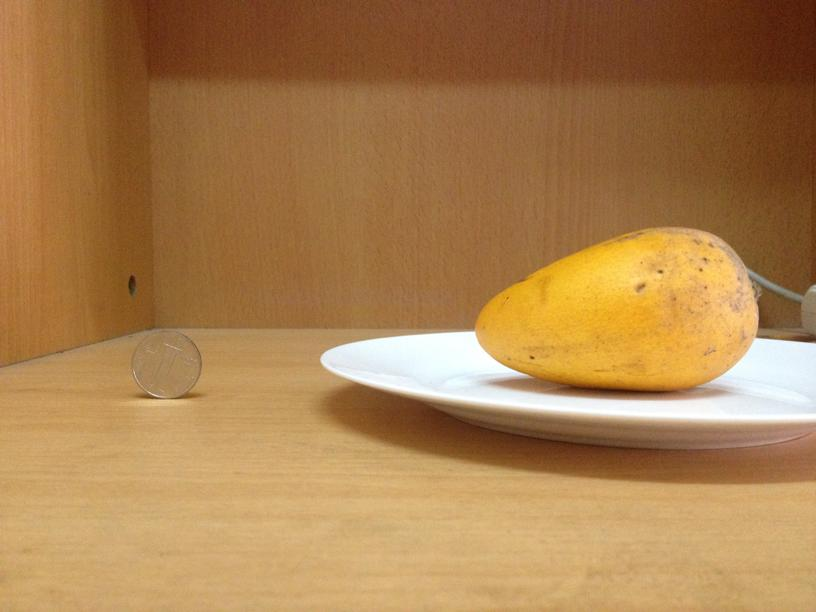coin: (131, 327, 201, 399)
mango: (473, 221, 757, 393)
